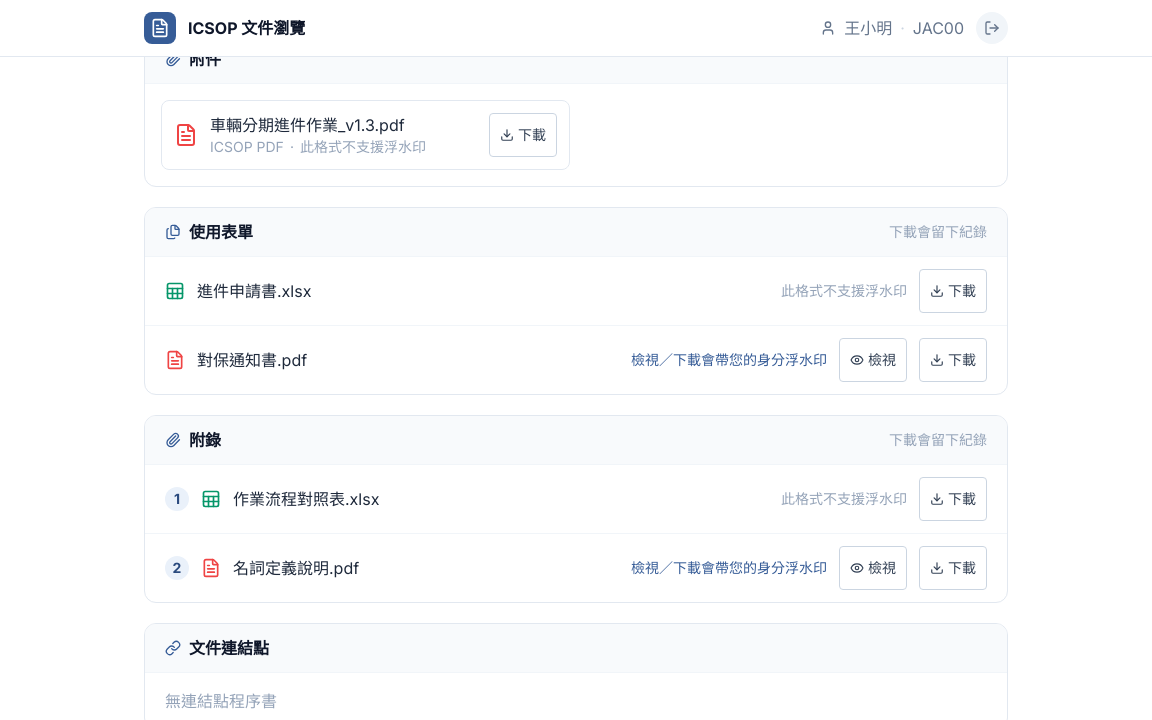
Test: 前台使用表單／附錄之 PDF 檢視（AC-FV1／AC-FV2） › AC-FV2 點擊檢視：click 內同步開分頁，再以該分頁呼叫前台檢視端點（documentId, id, win）
(page scrolled)
Expected: the text "名詞定義說明.pdf" is shown, left=233, top=558, right=359, bottom=578
Click the button with aria-label "檢視「對保通知書.pdf」" at (873, 360), box left=839, top=338, right=907, bottom=382
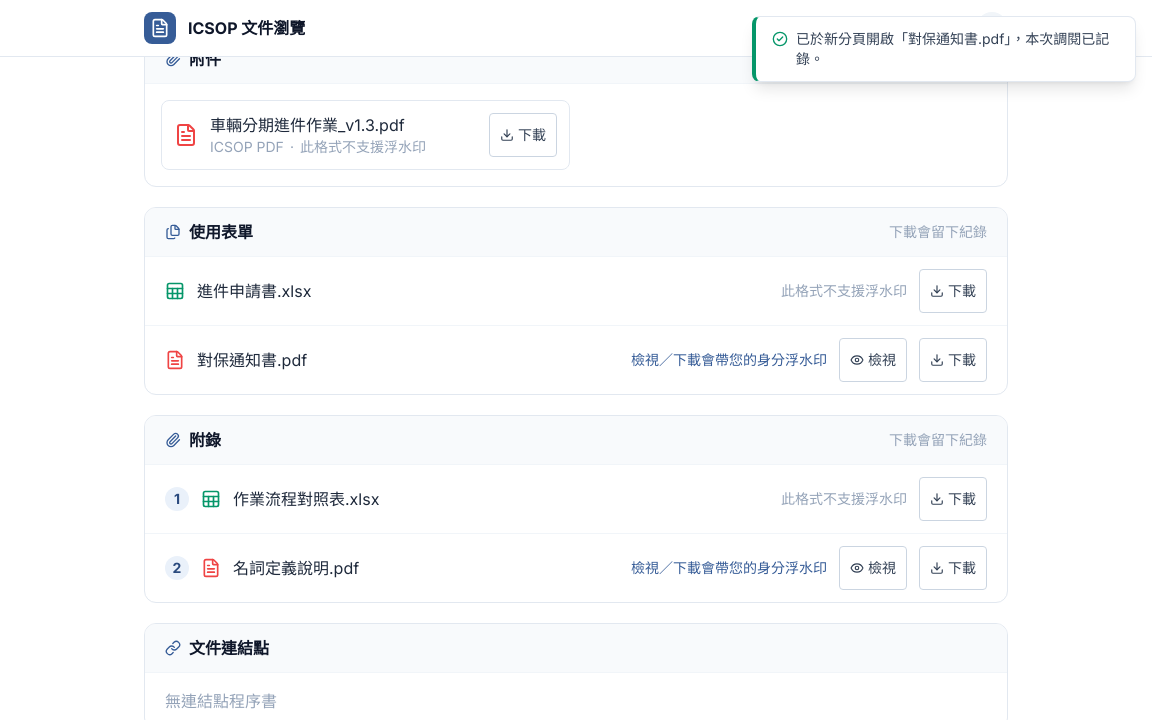
Click the button with aria-label "檢視「名詞定義說明.pdf」" at (873, 568), box left=839, top=546, right=907, bottom=590
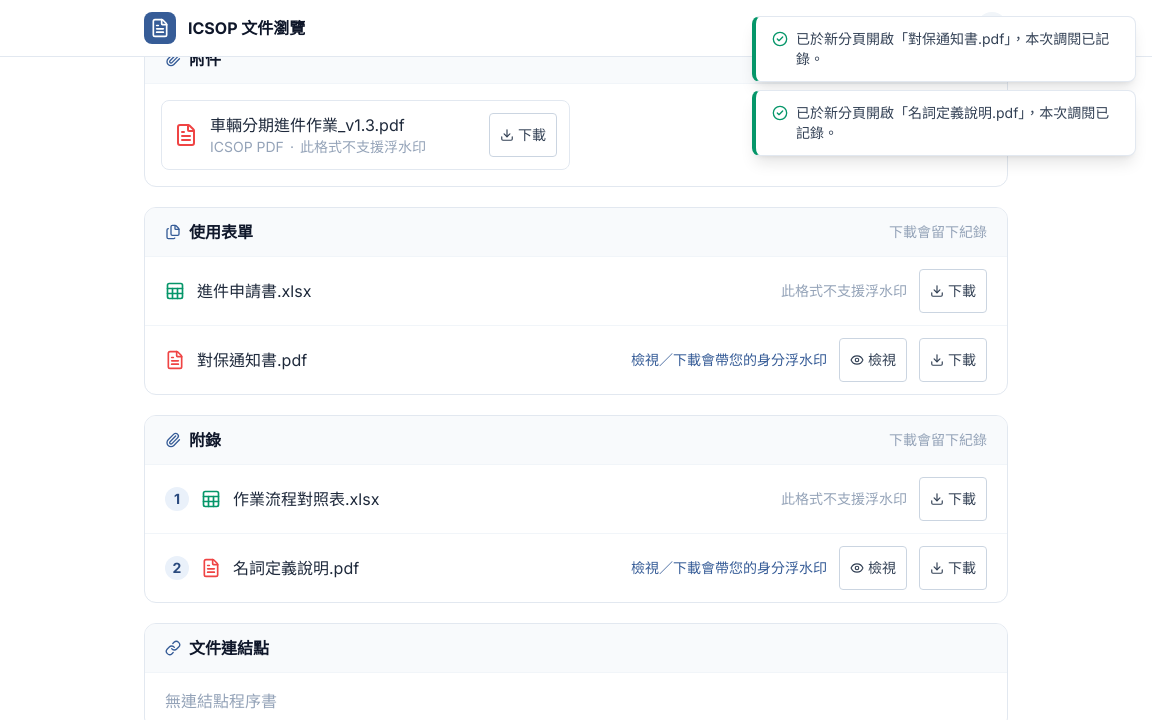
Expected: the text "已於新分頁開啟「名詞定義說明.pdf」，本次調閱已記錄。" is shown, left=796, top=103, right=1119, bottom=143
